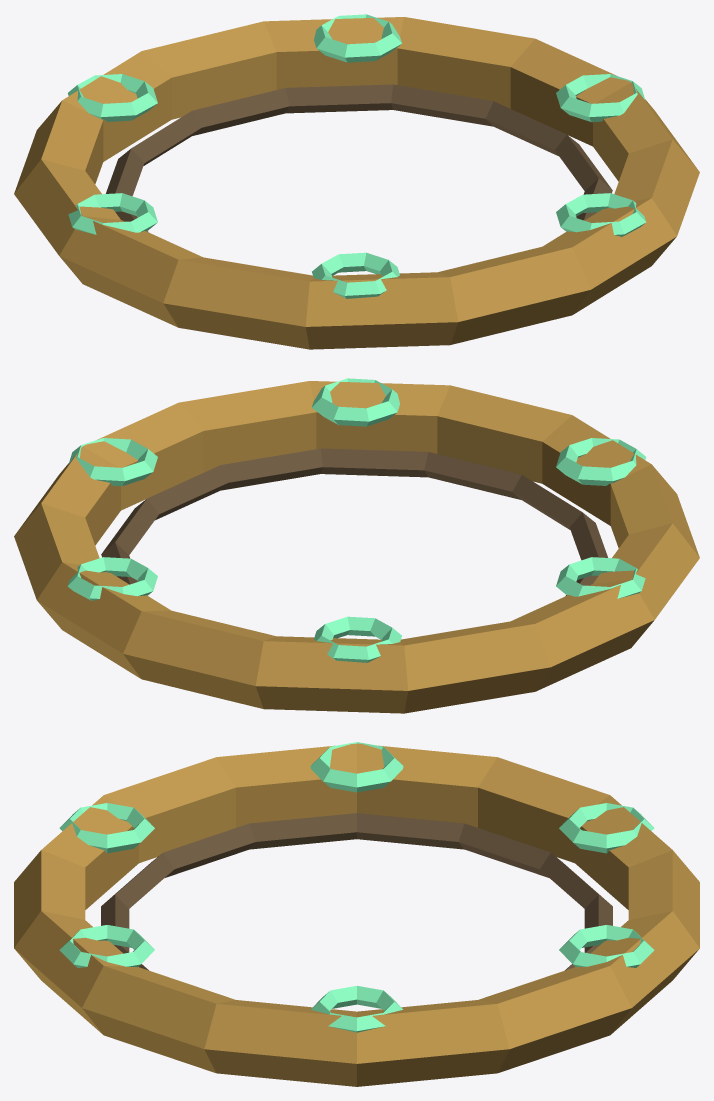
Rendered from wave_script_lip.obj.
3 views of the same model, one above another, from view 1: azimuth 30°, elevation 25°; view 2: azimuth 150°, elevation 25°; view 3: azimuth 270°, elevation 25° (orthographic). The views are drawn at different scales.
Parts seen in each view (by area): view 1: wave_lip, mouth_inner, wave_glyph_2, wave_glyph_1, wave_glyph_5, wave_glyph_3, wave_glyph_4, wave_glyph_0; view 2: wave_lip, mouth_inner, wave_glyph_4, wave_glyph_5, wave_glyph_1, wave_glyph_3, wave_glyph_2, wave_glyph_0; view 3: wave_lip, mouth_inner, wave_glyph_0, wave_glyph_1, wave_glyph_5, wave_glyph_2, wave_glyph_4, wave_glyph_3.
Part boxes in pixels (x1=…): wave_lip: x1=14, y1=17, x2=699, y2=349; mouth_inner: x1=106, y1=84, x2=612, y2=232; wave_glyph_2: x1=312, y1=252, x2=399, y2=298; wave_glyph_1: x1=556, y1=193, x2=646, y2=236; wave_glyph_5: x1=314, y1=14, x2=401, y2=62; wave_glyph_3: x1=68, y1=193, x2=157, y2=234; wave_glyph_4: x1=67, y1=74, x2=157, y2=121; wave_glyph_0: x1=556, y1=74, x2=645, y2=122; wave_lip: x1=14, y1=381, x2=699, y2=713; mouth_inner: x1=101, y1=448, x2=607, y2=596; wave_glyph_4: x1=314, y1=616, x2=401, y2=662; wave_glyph_5: x1=67, y1=557, x2=157, y2=600; wave_glyph_1: x1=312, y1=378, x2=399, y2=426; wave_glyph_3: x1=556, y1=557, x2=645, y2=598; wave_glyph_2: x1=556, y1=438, x2=646, y2=485; wave_glyph_0: x1=68, y1=438, x2=157, y2=486; wave_lip: x1=14, y1=743, x2=699, y2=1086; mouth_inner: x1=101, y1=813, x2=612, y2=970; wave_glyph_0: x1=311, y1=986, x2=402, y2=1032; wave_glyph_1: x1=59, y1=925, x2=154, y2=967; wave_glyph_5: x1=559, y1=925, x2=654, y2=967; wave_glyph_2: x1=59, y1=803, x2=154, y2=853; wave_glyph_4: x1=559, y1=803, x2=654, y2=853; wave_glyph_3: x1=310, y1=742, x2=403, y2=792.
Bounding box in the file's own units: 1.22 × 0.1346 × 1.19.
